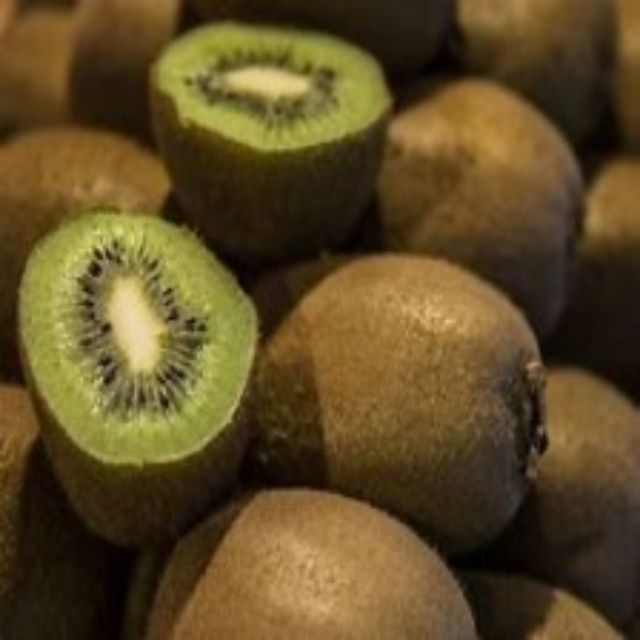kiwi: (31, 212, 277, 551), (252, 251, 532, 544), (159, 28, 365, 276), (147, 486, 472, 637), (373, 82, 586, 309)
